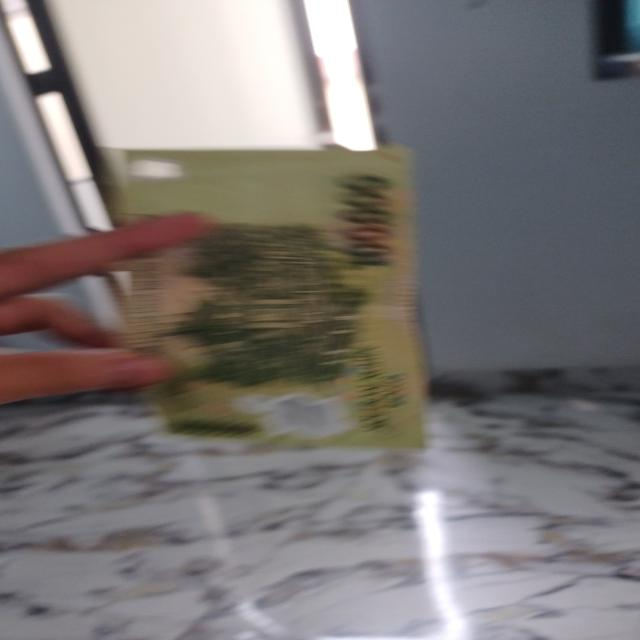100 000 VND: (112, 138, 441, 449)
